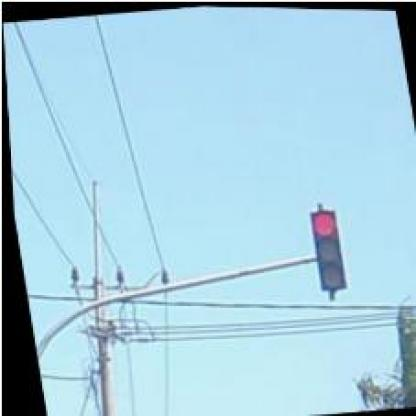red: (305, 207, 344, 291)
